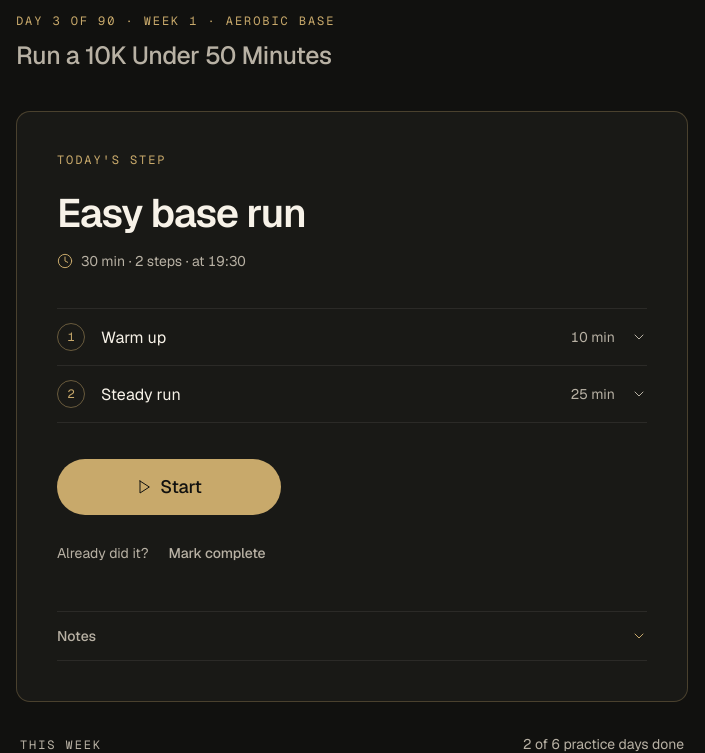
Test: Today › a step opens in place to show its instruction and focus cue
The image size is (705, 753).
Expected: the text "Jog gently for ten minutes." is not shown
Click the button "1 Warm up 10 min" at (134, 337), box [57, 310, 647, 366]
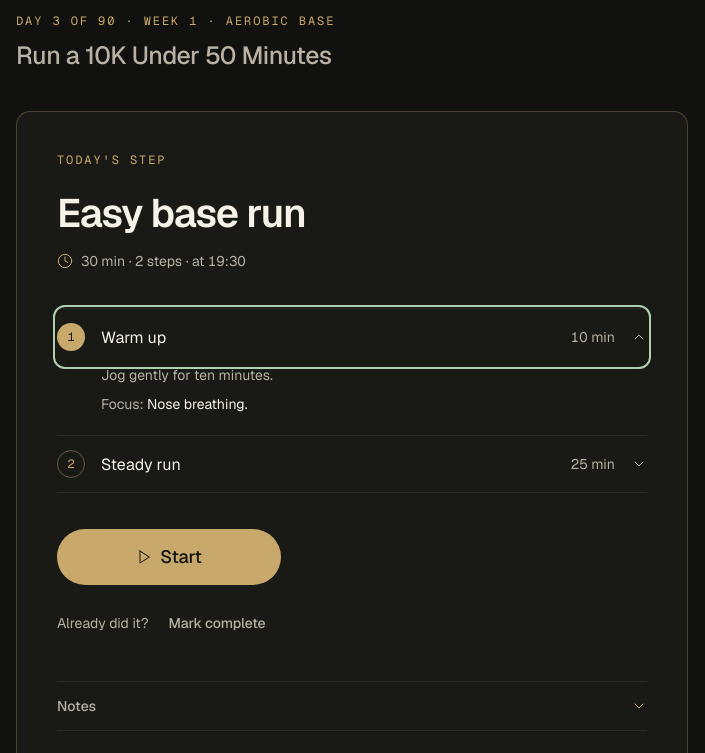
Now the button "1 Warm up 10 min" is expanded, box [57, 310, 647, 366]
Now the text "Jog gently for ten minutes." is shown, box [101, 366, 273, 384]
Now the text "Nose breathing." is shown, box [147, 396, 248, 414]
Several can be open at once.
Click the button "2 Steady run 25 min" at (141, 464), box [57, 436, 647, 492]
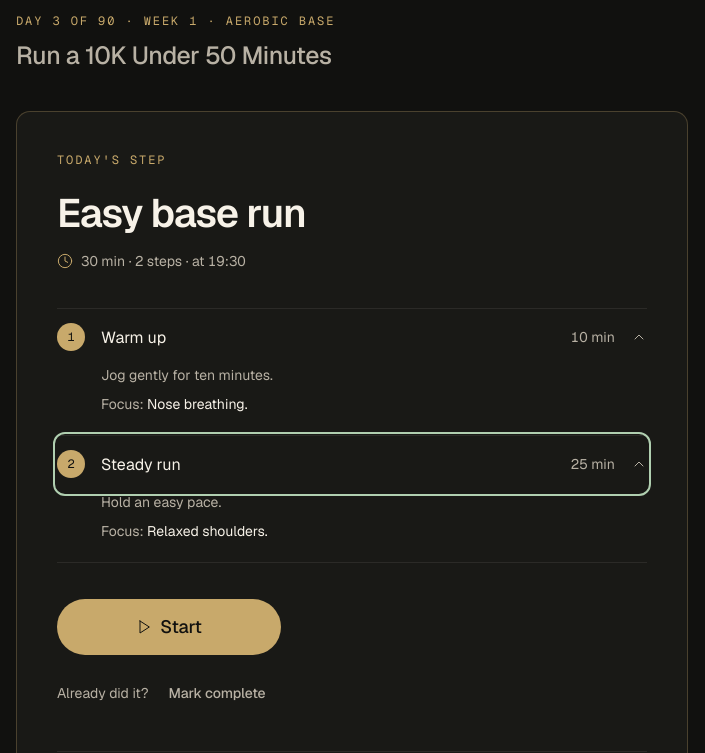
Now the text "Jog gently for ten minutes." is shown, box [101, 366, 273, 384]
Now the text "Hold an easy pace." is shown, box [101, 494, 221, 512]
